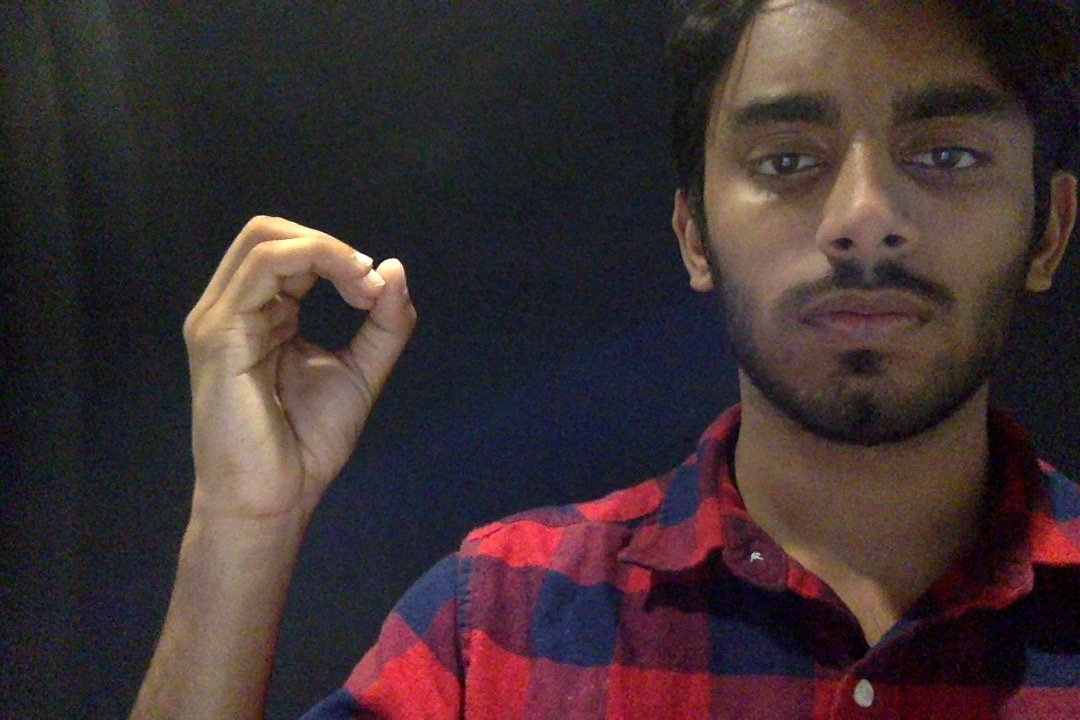o: (156, 177, 426, 604)
